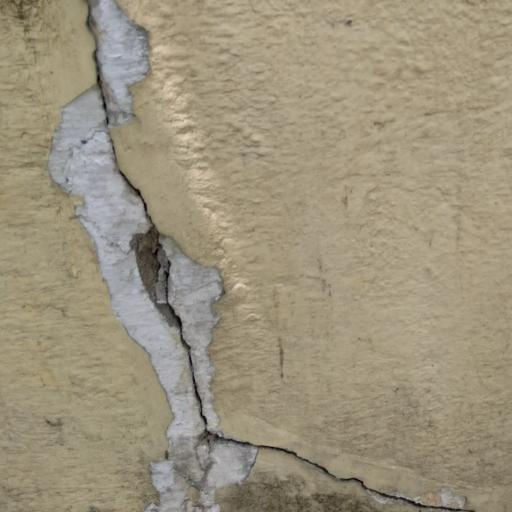major_crack: (69, 0, 481, 512)
